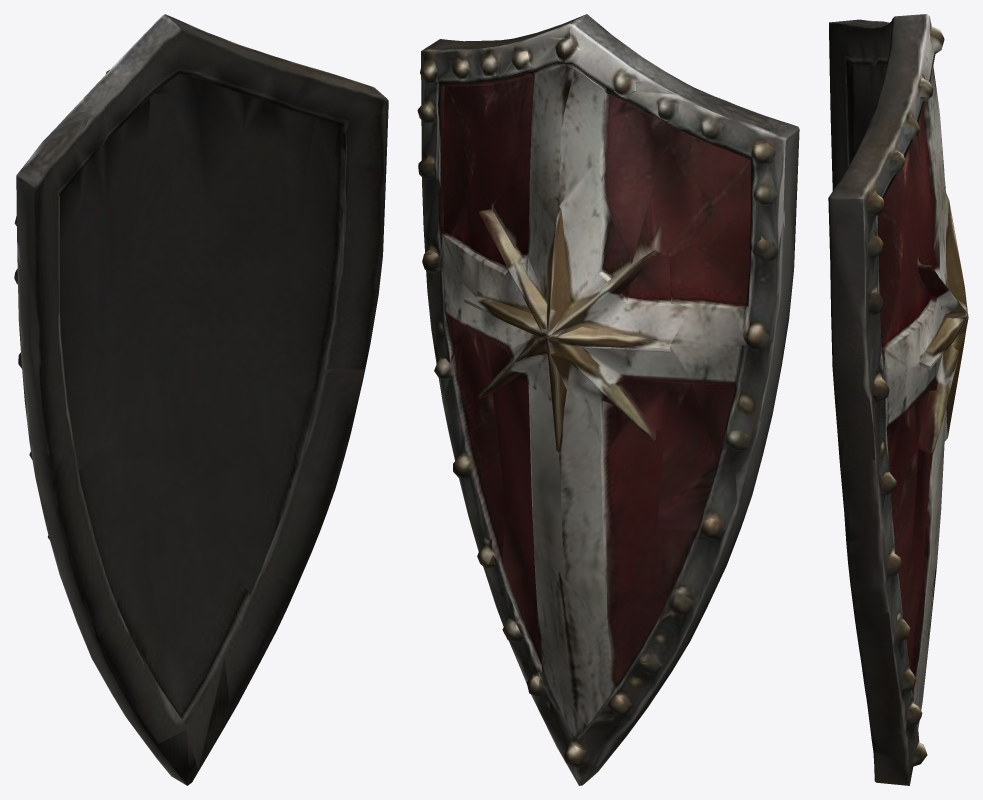
The model's file is kite_red_cross.glb.
3 views of the same model, side by side, from view 1: azimuth 30°, elevation 25°; view 2: azimuth 150°, elevation 25°; view 3: azimuth 270°, elevation 25° (orthographic). The views are drawn at different scales.
Visible parts, largest first — view 1: kite_red_cross; view 2: kite_red_cross; view 3: kite_red_cross.
Boxes of the visible parts, x1=… form: kite_red_cross: x1=14, y1=14, x2=388, y2=785; kite_red_cross: x1=417, y1=14, x2=799, y2=785; kite_red_cross: x1=828, y1=14, x2=968, y2=785.
Bounding box in the file's own units: 0.4045 × 0.814 × 0.134.
Materials: 1 (1 with a texture image).
